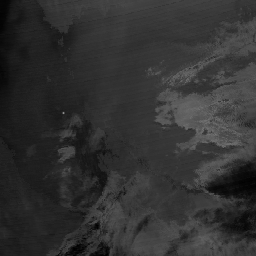Target: (61, 110, 67, 117)
